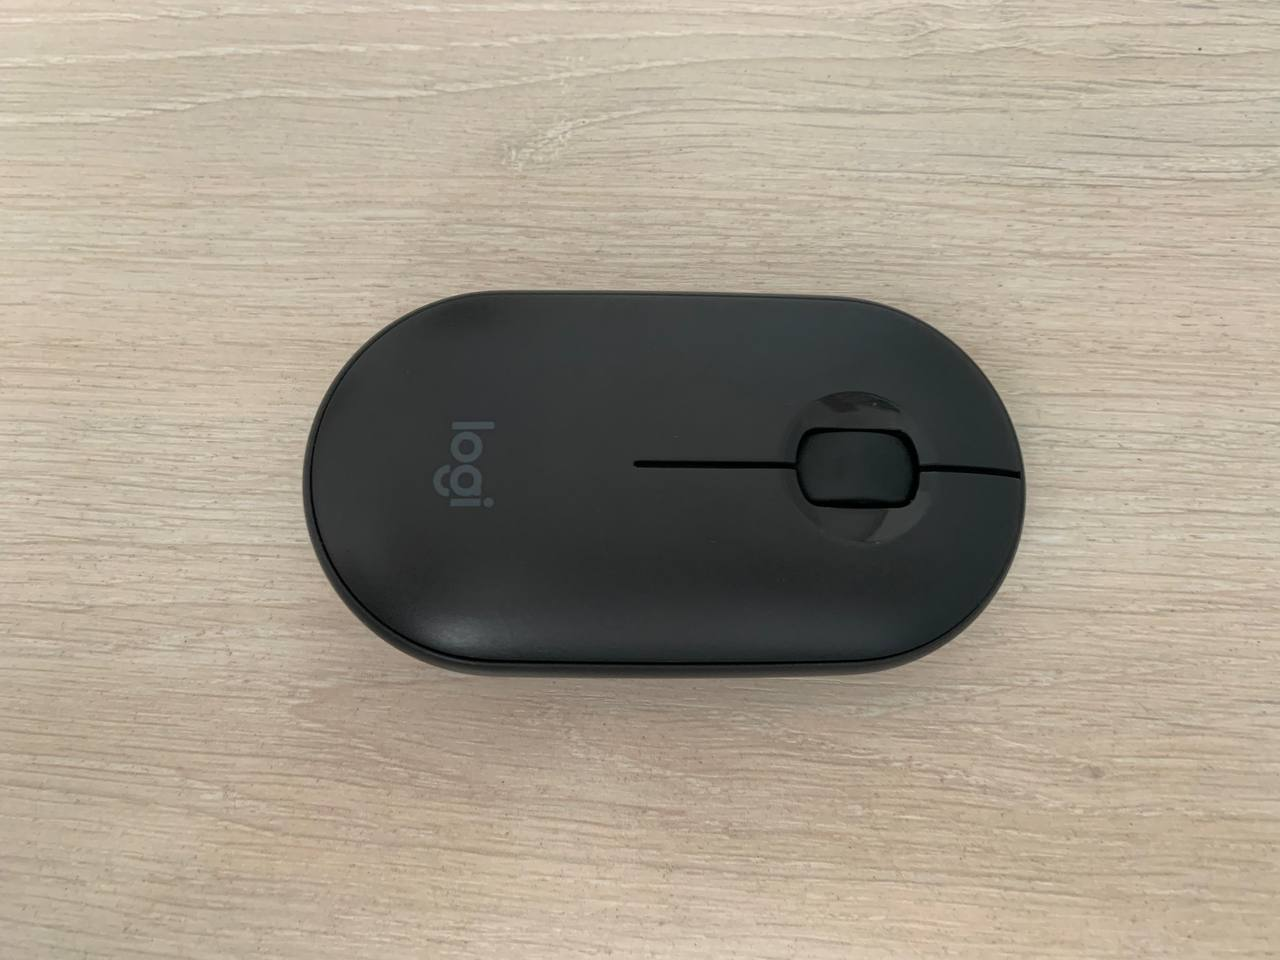mouse: (305, 292, 1026, 675)
